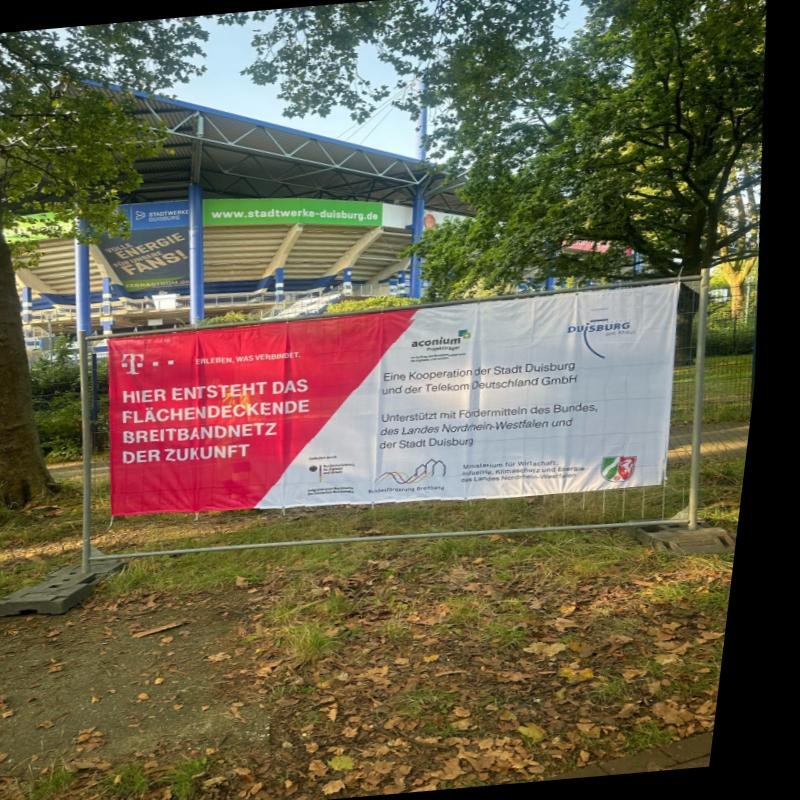Banner: (101, 290, 698, 532)
